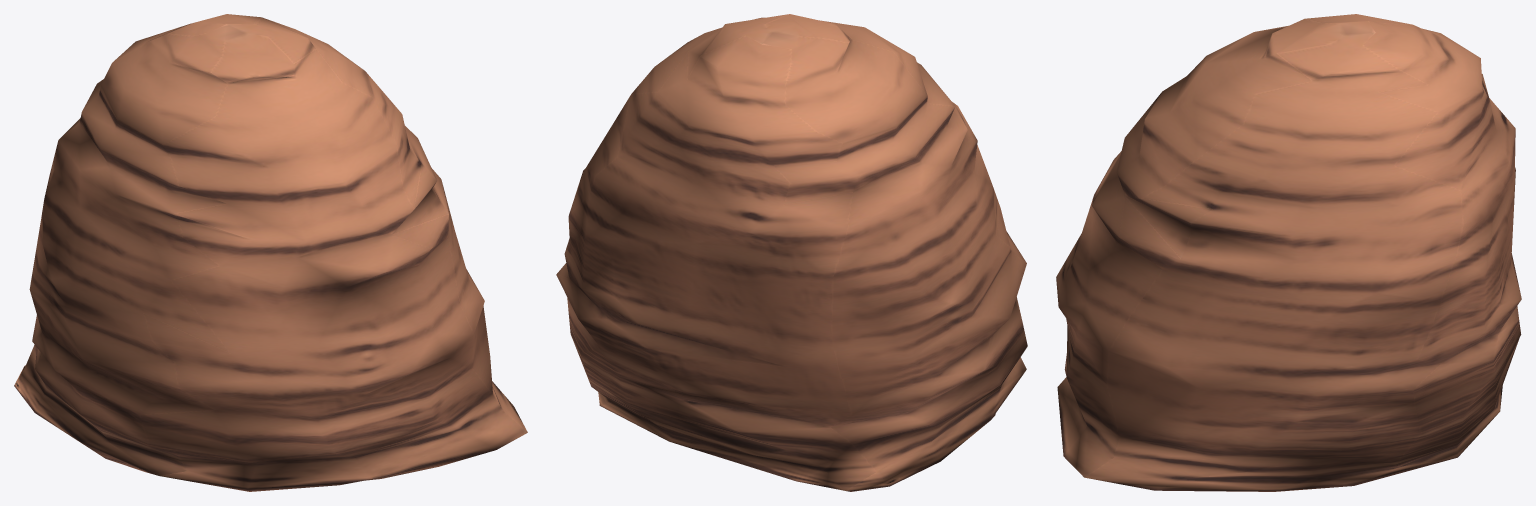
File: Desert_rock_4.fbx
3 renders of one model, left to right at view 1: azimuth 30°, elevation 25°; view 2: azimuth 150°, elevation 25°; view 3: azimuth 270°, elevation 25°, orthographic. The views are drawn at different scales.
Visible parts, largest first — view 1: Desert_rock_4; view 2: Desert_rock_4; view 3: Desert_rock_4.
Part boxes in pixels (<box>): Desert_rock_4: <box>14,14,527,491</box>; Desert_rock_4: <box>556,14,1027,491</box>; Desert_rock_4: <box>1056,14,1521,491</box>.
Bounding box in the file's own units: 1.63 × 1.45 × 1.63.
1 material, 1 textured.
